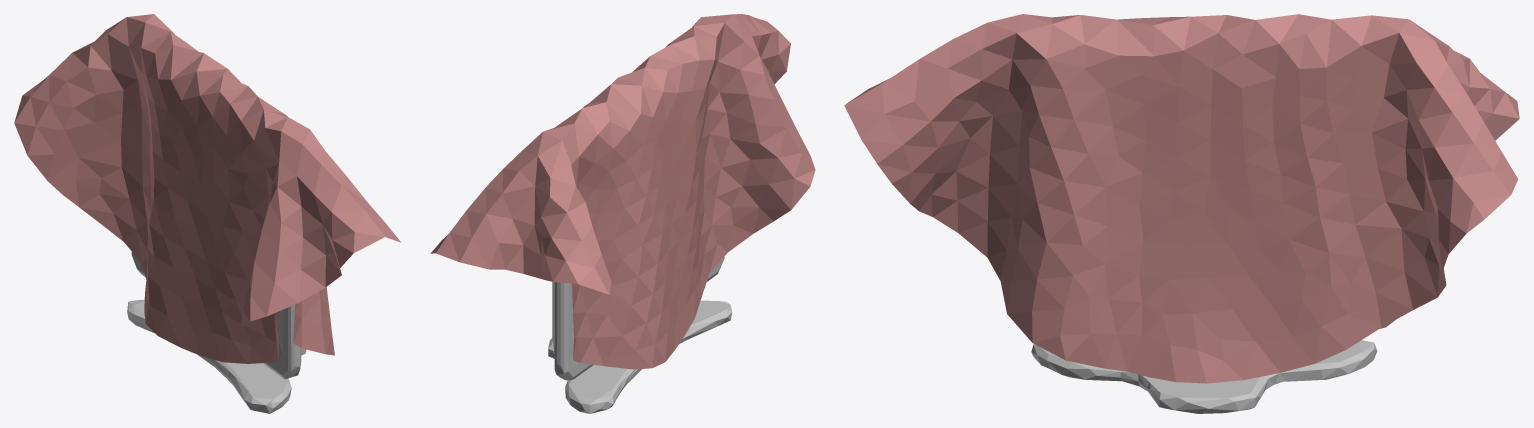
The model's file is level_0.glb.
The picture shows the model from 3 angles, left to right: view 1: azimuth 30°, elevation 25°; view 2: azimuth 150°, elevation 25°; view 3: azimuth 270°, elevation 25°; orthographic projection. The views are drawn at different scales.
Parts seen in each view (by area): view 1: world, object.obj; view 2: world, object.obj; view 3: world, object.obj.
Part boxes in pixels (x1=…): world: x1=14, y1=14, x2=401, y2=363; object.obj: x1=127, y1=251, x2=306, y2=413; world: x1=430, y1=14, x2=815, y2=369; object.obj: x1=548, y1=256, x2=732, y2=413; world: x1=844, y1=14, x2=1519, y2=383; object.obj: x1=1031, y1=320, x2=1394, y2=413.
Size of the model in its own units: 0.1974 by 0.2959 by 0.5138.
